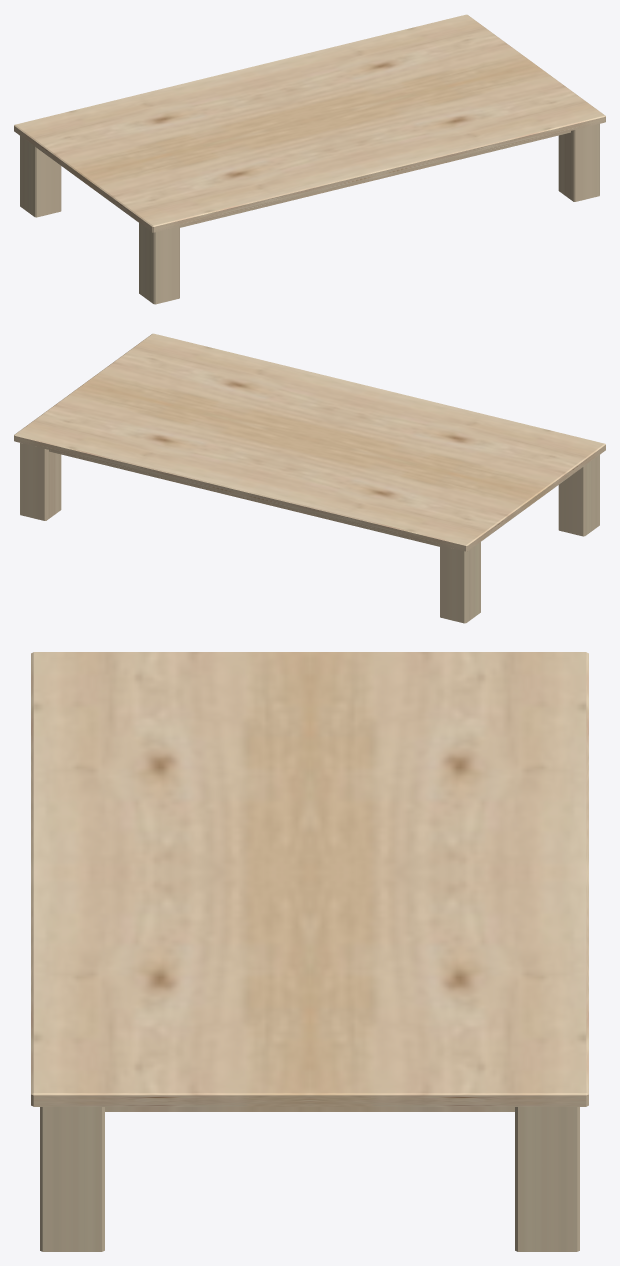
Rendered from MesaChica.fbx.
The picture shows the model from 3 angles, top to bottom: view 1: azimuth 30°, elevation 25°; view 2: azimuth 150°, elevation 25°; view 3: azimuth 270°, elevation 25°; orthographic projection. The views are drawn at different scales.
Parts seen in each view (by area): view 1: MesaChica; view 2: MesaChica; view 3: MesaChica.
Boxes of the visible parts, left/top/right/bottom form: MesaChica: left=14, top=14, right=605, bottom=304; MesaChica: left=14, top=333, right=605, bottom=623; MesaChica: left=31, top=652, right=588, bottom=1251.
Size of the model in its own units: 684 by 116 by 364.
1 material, 1 textured.
